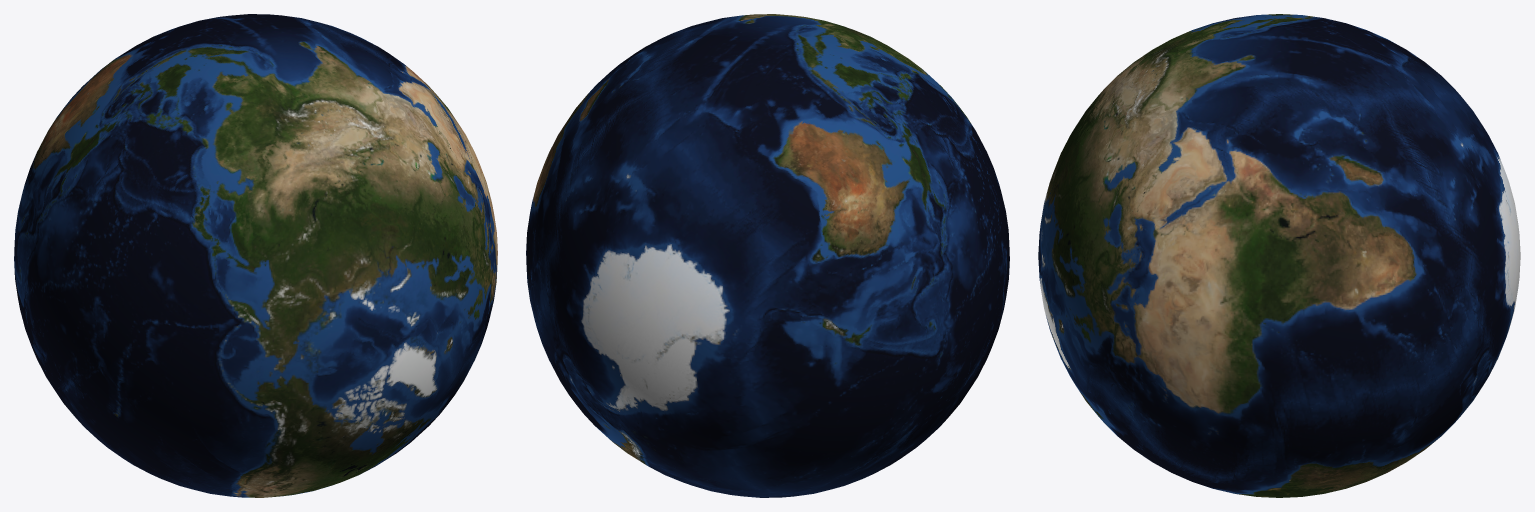
The model's file is earth.glb.
3 views of the same model, side by side, from view 1: azimuth 30°, elevation 25°; view 2: azimuth 150°, elevation 25°; view 3: azimuth 270°, elevation 25° (orthographic).
Parts seen in each view (by area): view 1: Cube.001; view 2: Cube.001; view 3: Cube.001.
Part boxes in pixels (<box>): Cube.001: <box>14,14,497,497</box>; Cube.001: <box>526,14,1009,497</box>; Cube.001: <box>1038,14,1520,497</box>.
Size of the model in its own units: 1.28e+07 by 1.28e+07 by 1.27e+07.
Materials: 2 (1 with a texture image).
